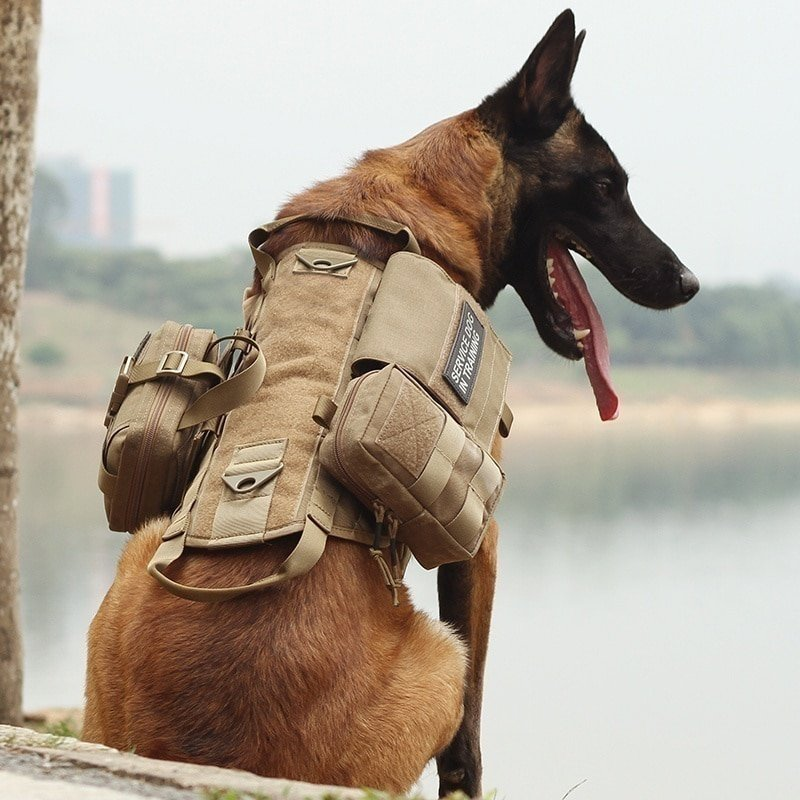dog: (98, 7, 724, 784)
